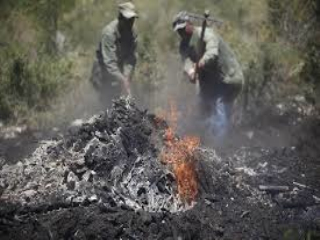fire: (153, 105, 208, 201)
